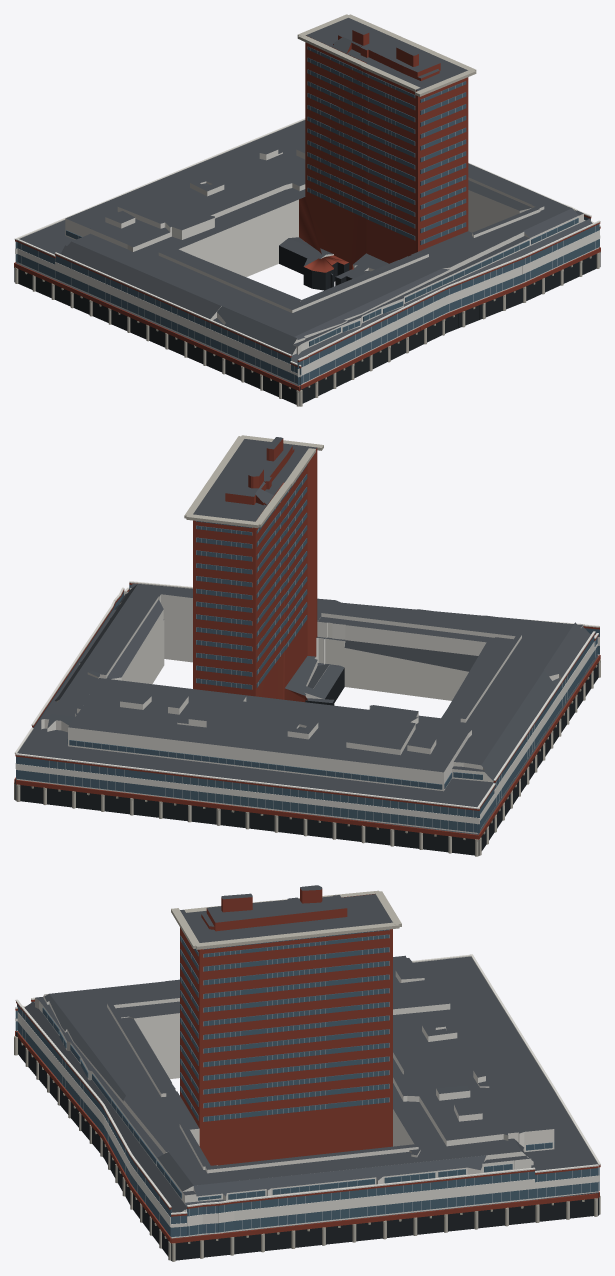
File: de-nederlandsche-bank.glb
3 views of the same model, one above another, from view 1: azimuth 30°, elevation 25°; view 2: azimuth 150°, elevation 25°; view 3: azimuth 270°, elevation 25° (orthographic). The views are drawn at different scales.
Visible parts, largest first — view 1: de-nederlandsche-bank; view 2: de-nederlandsche-bank; view 3: de-nederlandsche-bank.
Boxes of the visible parts, x1,y1,x2,y2 form: de-nederlandsche-bank: [14, 14, 600, 406]; de-nederlandsche-bank: [14, 435, 600, 856]; de-nederlandsche-bank: [14, 885, 600, 1261].
Bounding box in the file's own units: 145 × 71.75 × 140.
